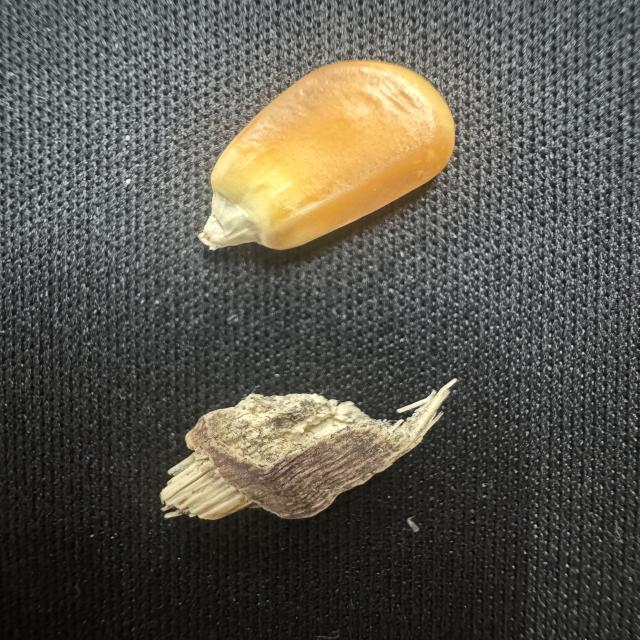Bad-Seed: (132, 373, 476, 526)
Good-Seed: (176, 56, 479, 266)
